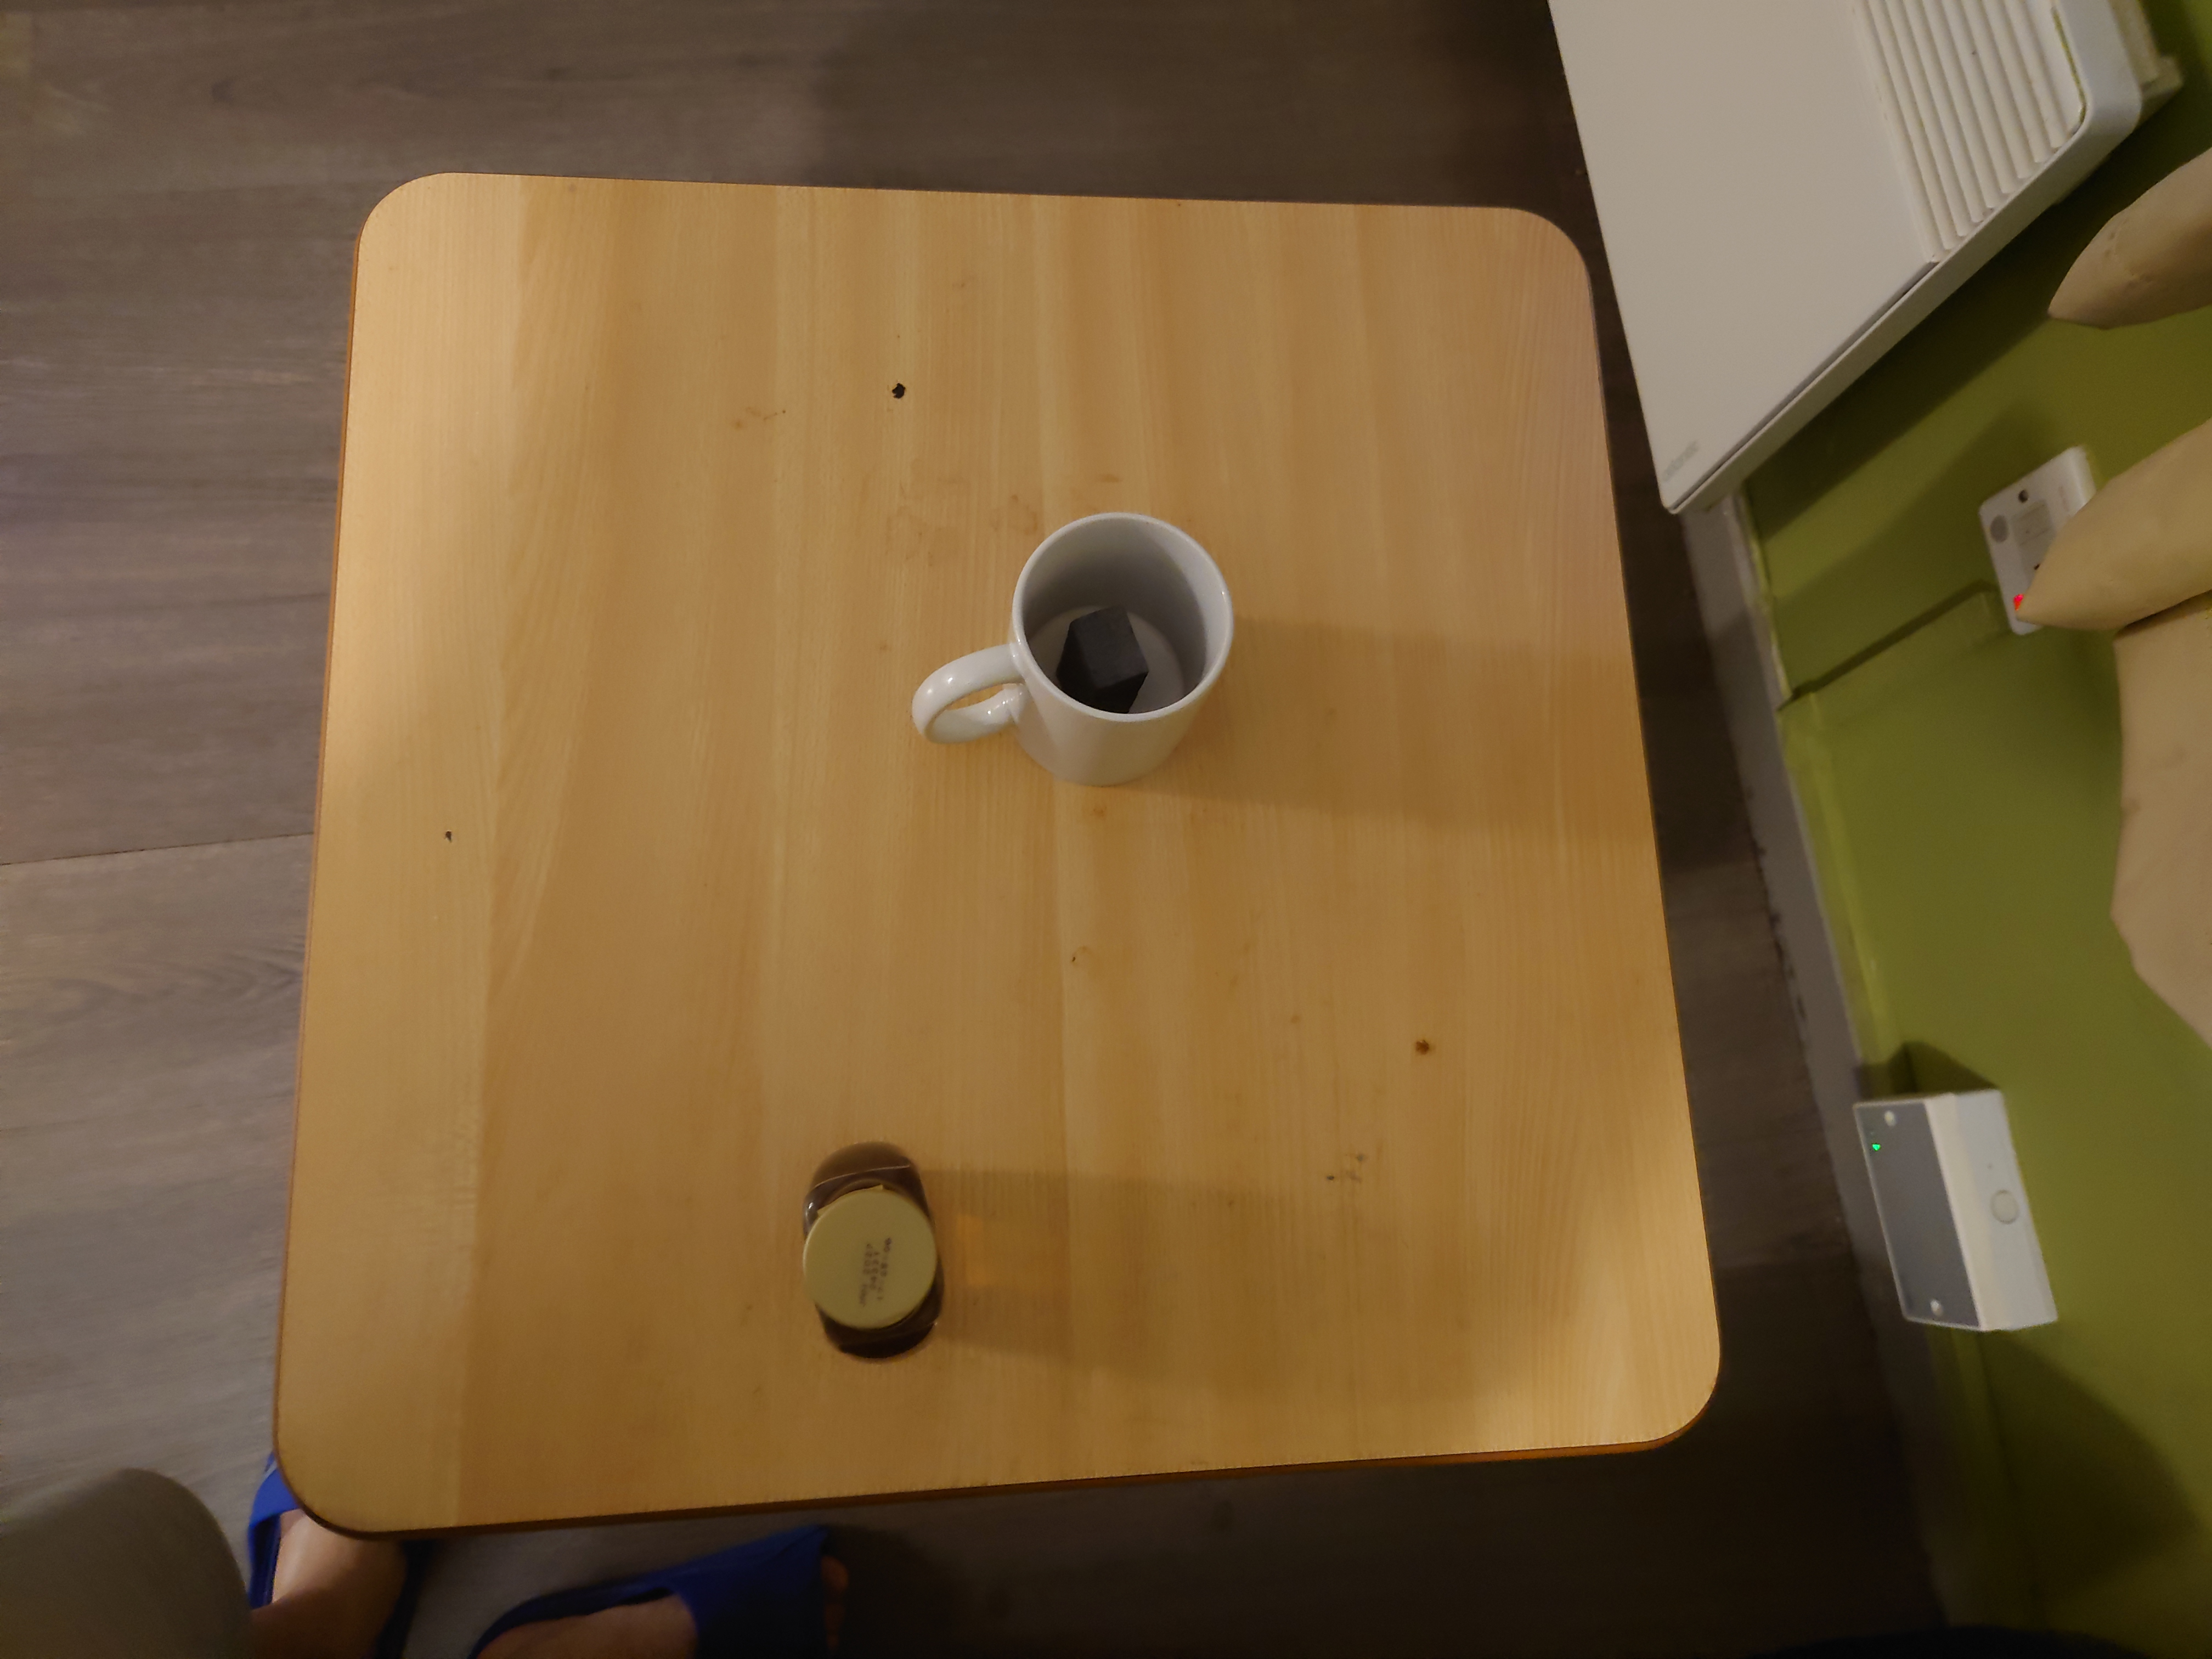cup: (907, 512, 1240, 795)
target: (1057, 601, 1150, 751)
